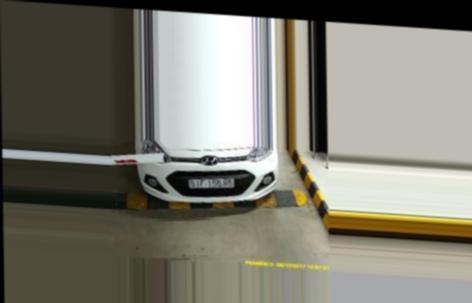License_Plate: (186, 171, 241, 192)
